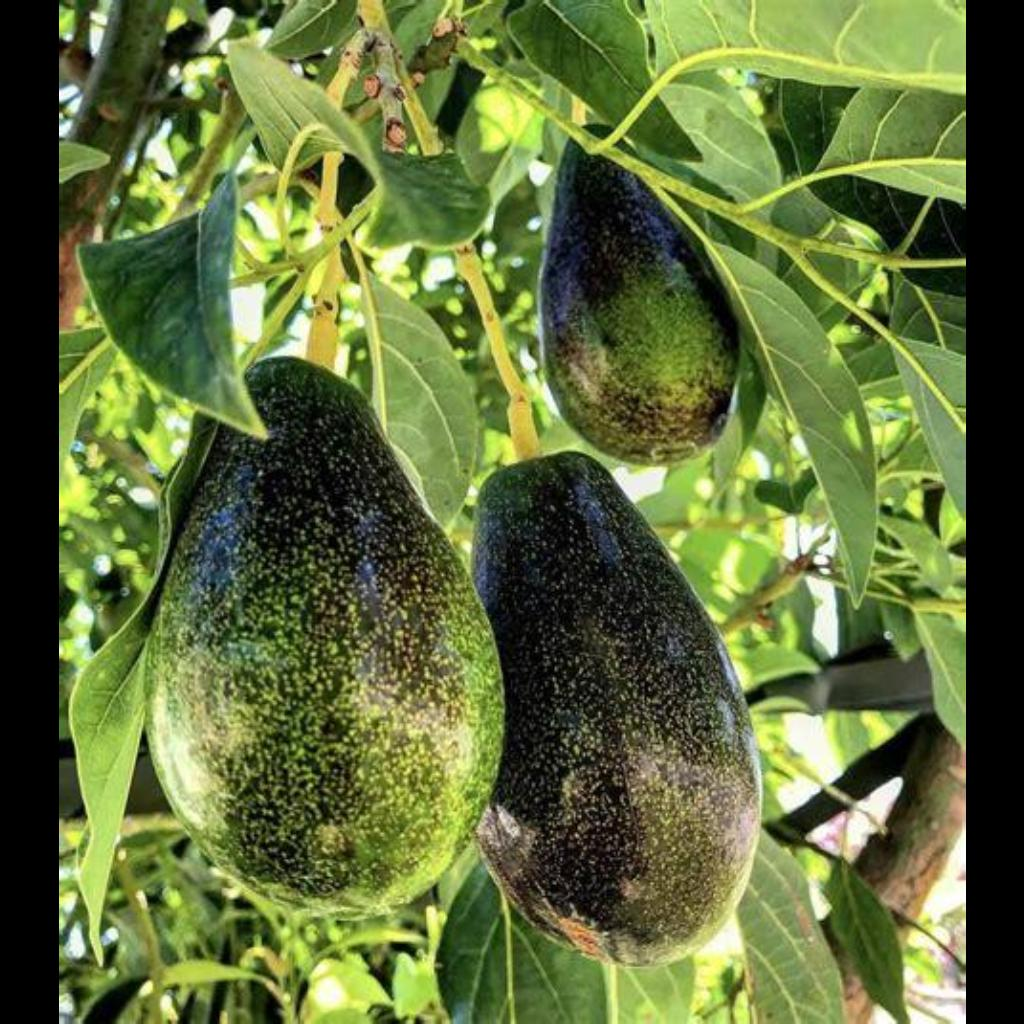Healthy: (111, 430, 517, 948), (470, 390, 800, 960), (516, 146, 778, 456)
